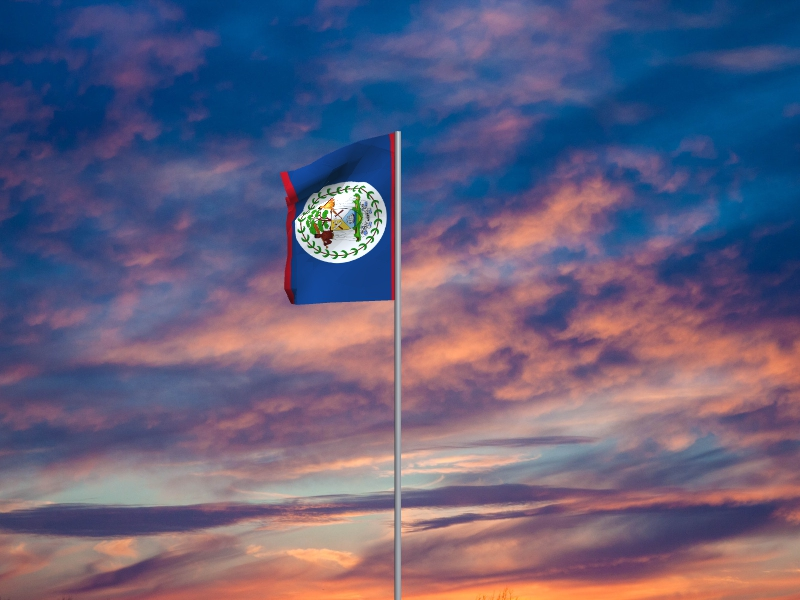bz: (279, 134, 395, 307)
